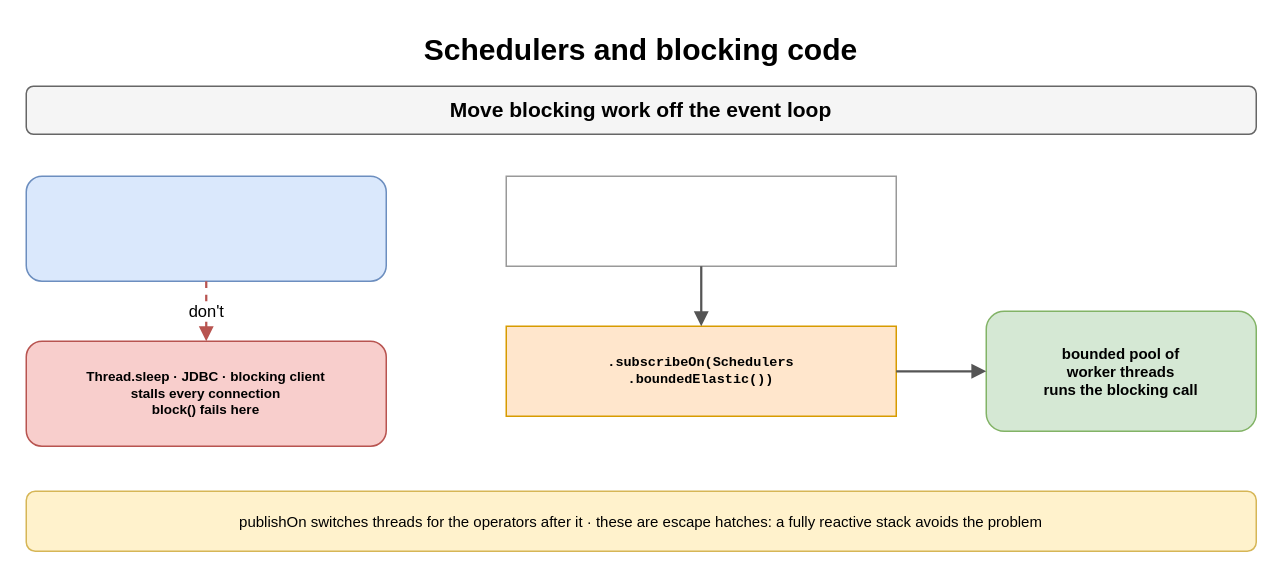
The diagram is 1283 pixels wide and 578 high, and some of its shapes have lost their labels. The centre of each missing label's shape, as x and y in pixels:
"Mono.fromCallable(() -> legacyJdbcReport(id))" goes at [700,220].
"Netty event-loop thread serves many connections" goes at [205,228].
